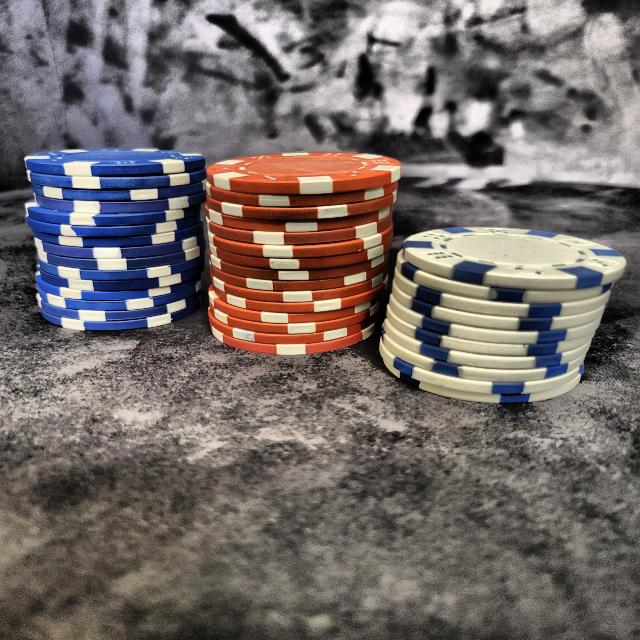Chip: (372, 197, 628, 422), (198, 125, 408, 369), (22, 124, 221, 346)
